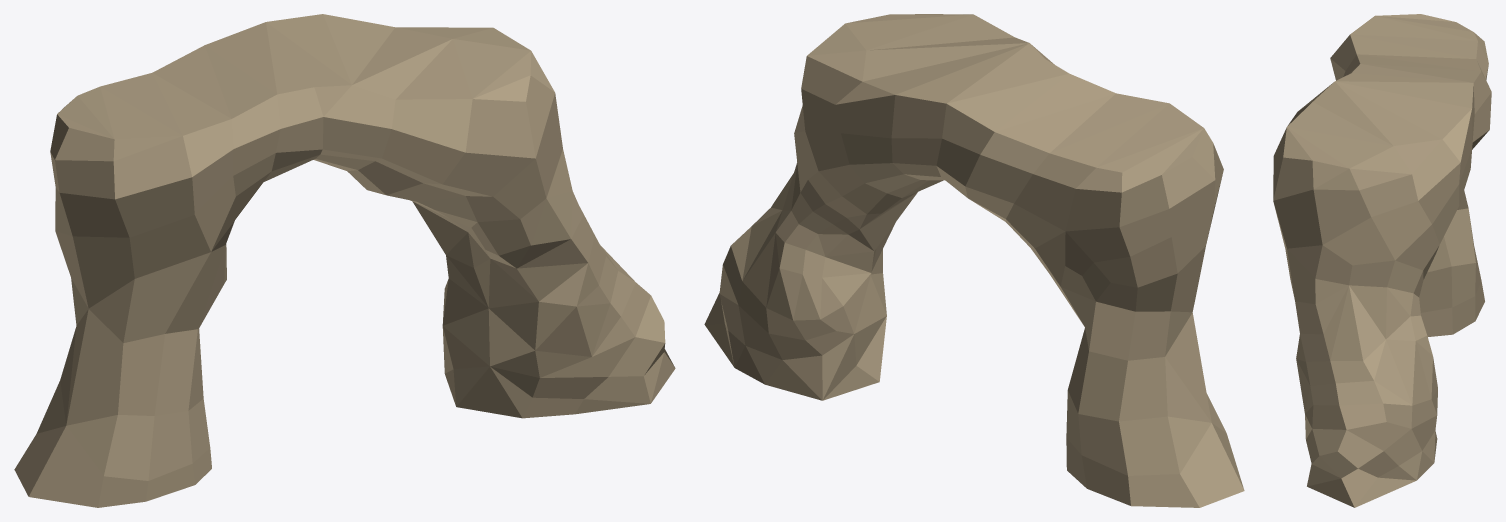
Rendered from Pillar-C06.fbx.
3 renders of one model, left to right at view 1: azimuth 30°, elevation 25°; view 2: azimuth 150°, elevation 25°; view 3: azimuth 270°, elevation 25°, orthographic. The views are drawn at different scales.
Parts seen in each view (by area): view 1: Pillar-C06; view 2: Pillar-C06; view 3: Pillar-C06.
Boxes of the visible parts, left/top/right/bottom form: Pillar-C06: left=14, top=14, right=675, bottom=507; Pillar-C06: left=704, top=14, right=1244, bottom=507; Pillar-C06: left=1273, top=14, right=1491, bottom=507.
Size of the model in its own units: 487 by 190 by 287.
